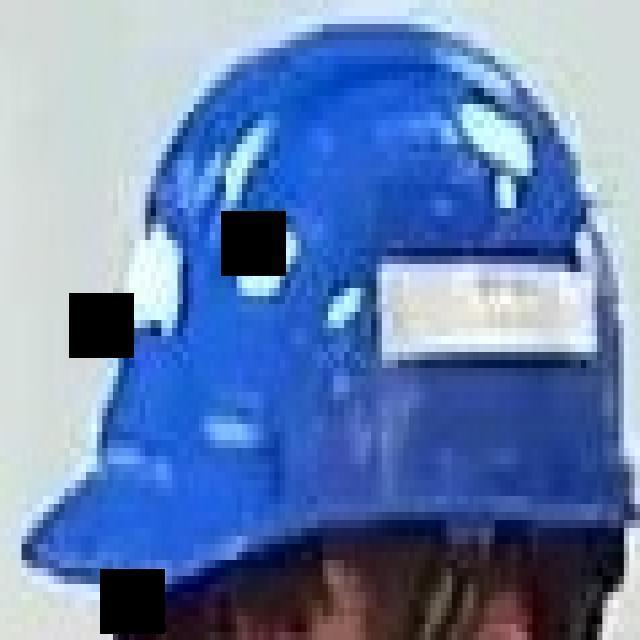blue helmet: (20, 13, 640, 609)
